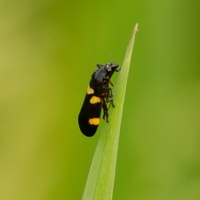insect: (78, 63, 118, 136)
